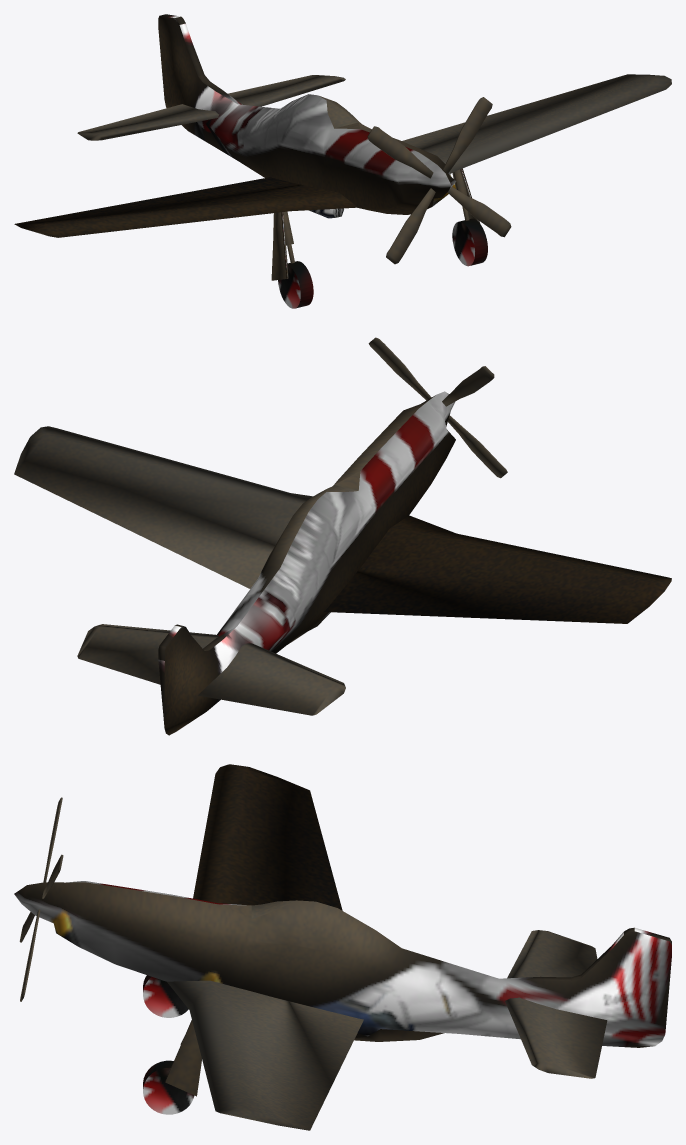
Rendered from aeroplane_idle.dae.
3 views of the same model, one above another, from view 1: azimuth 30°, elevation 25°; view 2: azimuth 150°, elevation 25°; view 3: azimuth 270°, elevation 25° (orthographic). The views are drawn at different scales.
Parts seen in each view (by area): view 1: Plane_002; view 2: Plane_002; view 3: Plane_002.
Part boxes in pixels (left/top/right/bottom): Plane_002: left=14, top=14, right=671, bottom=308; Plane_002: left=14, top=337, right=671, bottom=735; Plane_002: left=14, top=764, right=671, bottom=1130.
Bounding box in the file's own units: 23.55 × 7.39 × 18.6.
